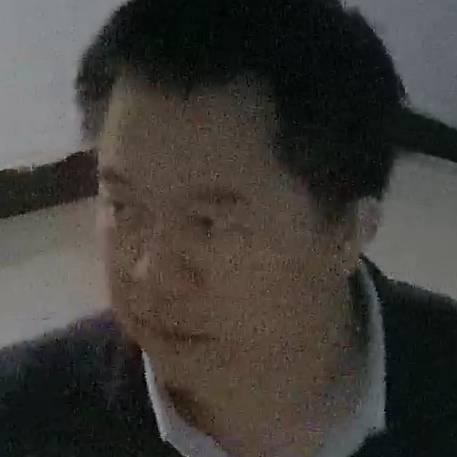cb: (48, 46, 407, 405)
